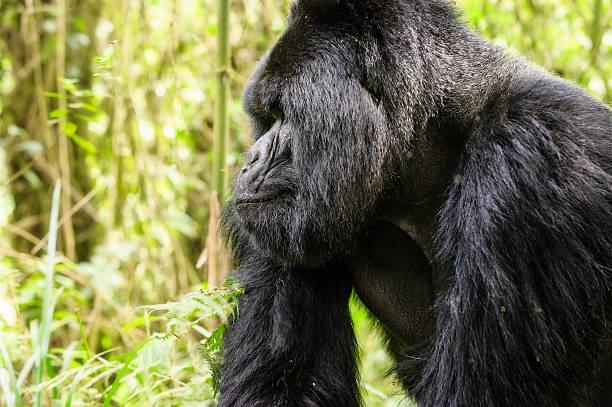goriile_montagne: (219, 2, 612, 407)
